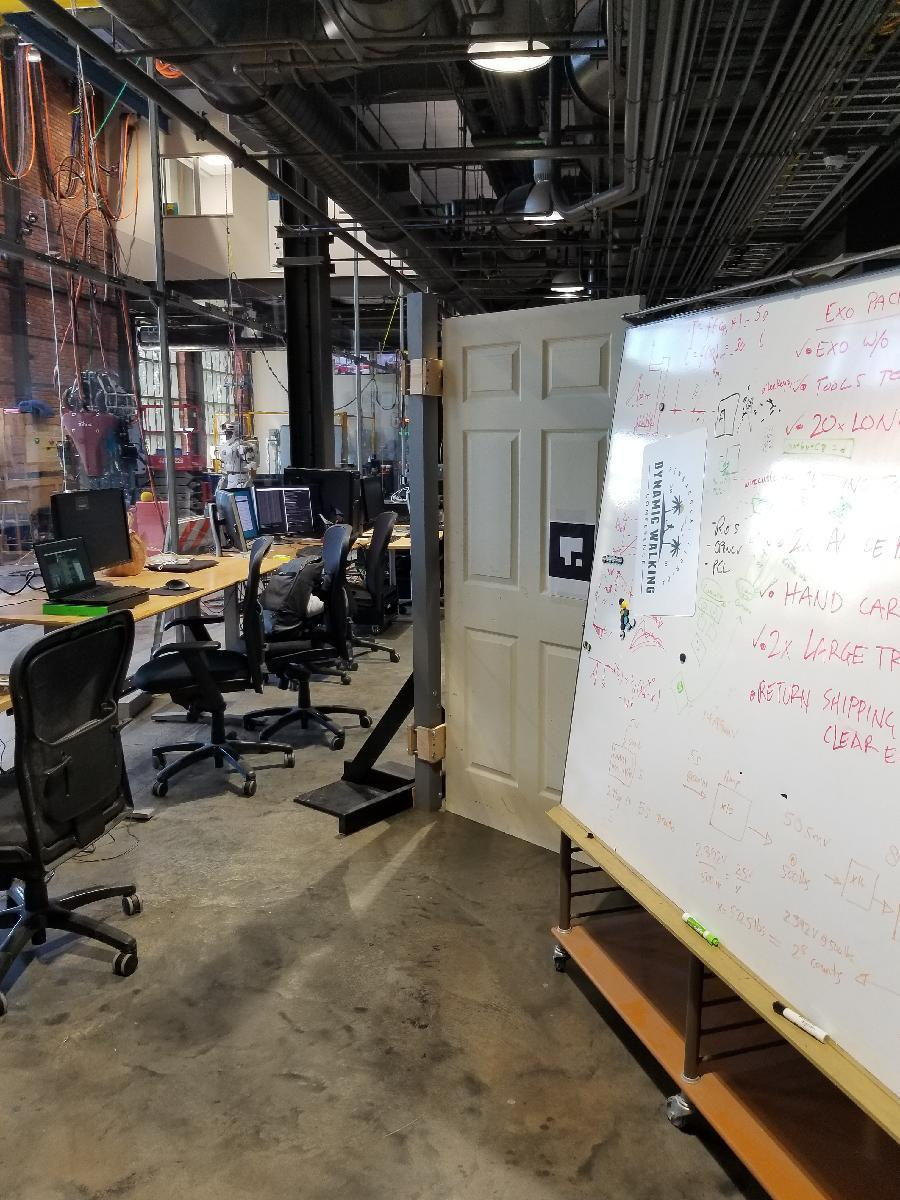door: (446, 308, 641, 851)
